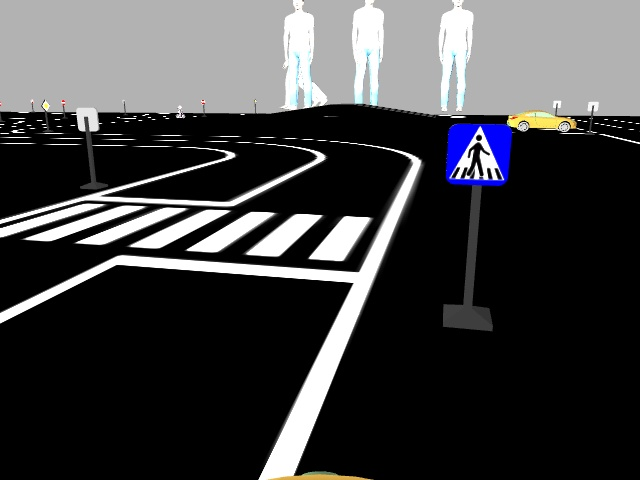Crosswalk: (447, 122, 508, 184)
